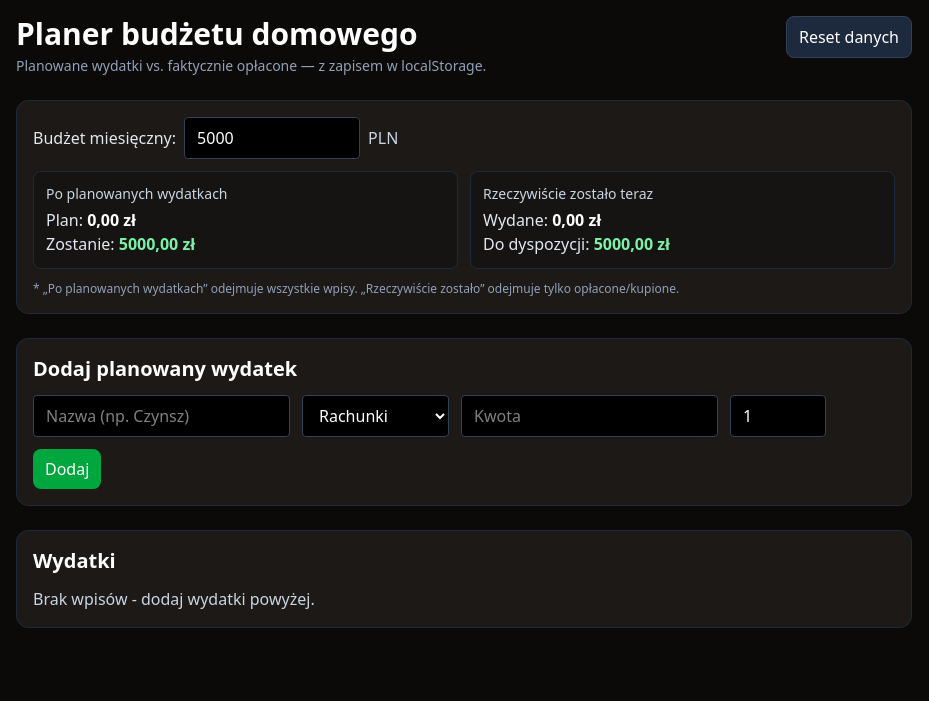
App integration › adds expense and updates planned remaining
The image size is (929, 701).
Replace the text in the number field labelled "Budżet miesięczny: PLN" with "1000" at (272, 138), box [184,117,360,159]
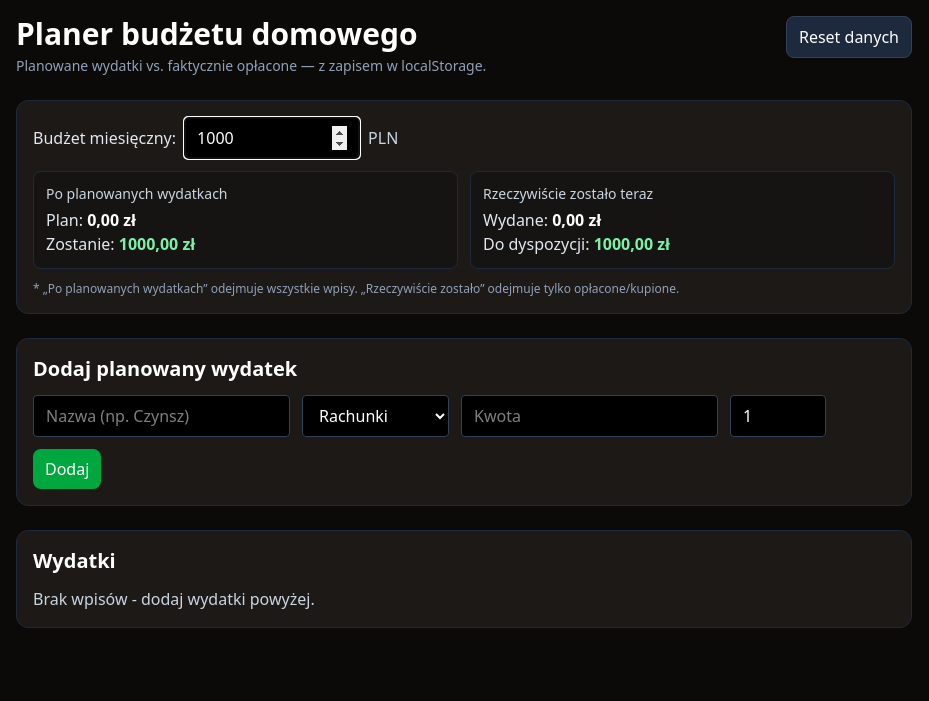
Type "Czynsz" into the field with placeholder "Nazwa (np. Czynsz)".
click(162, 416); type("Czynsz")  # box [33,395,290,437]
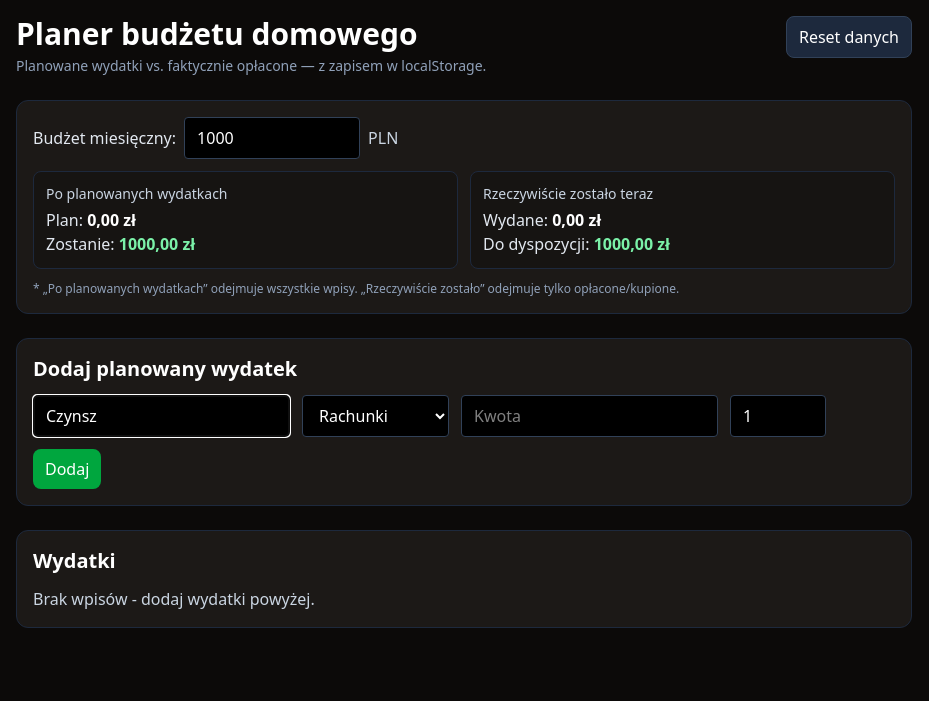
Type "200" into the number field with placeholder "Kwota".
click(590, 416); type("200")  # box [461,395,718,437]
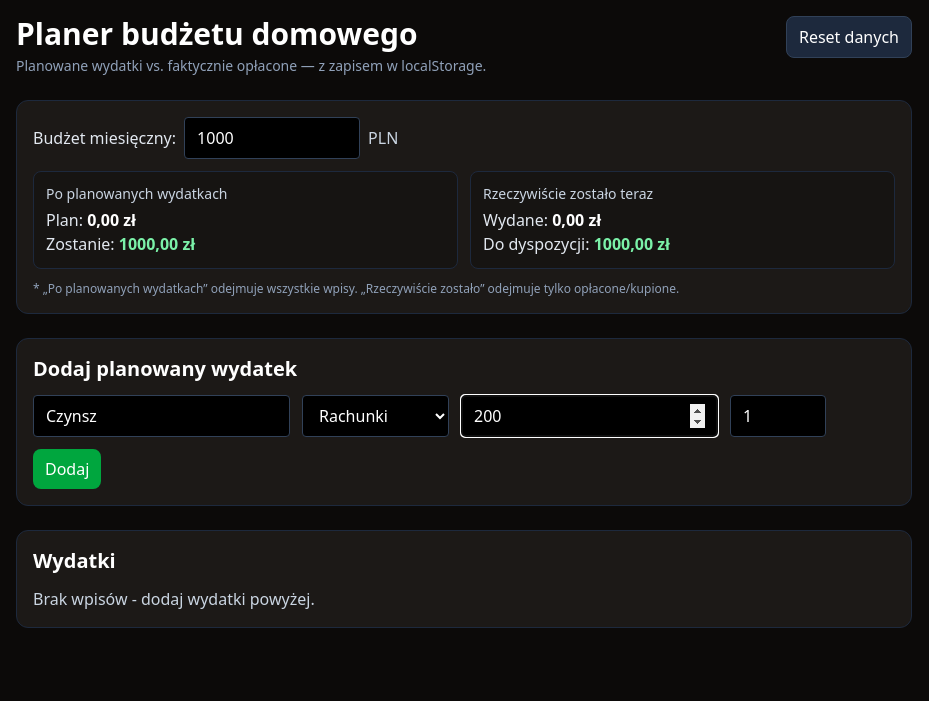
Click the button "Dodaj".
click(67, 469)  # box [33,449,101,489]
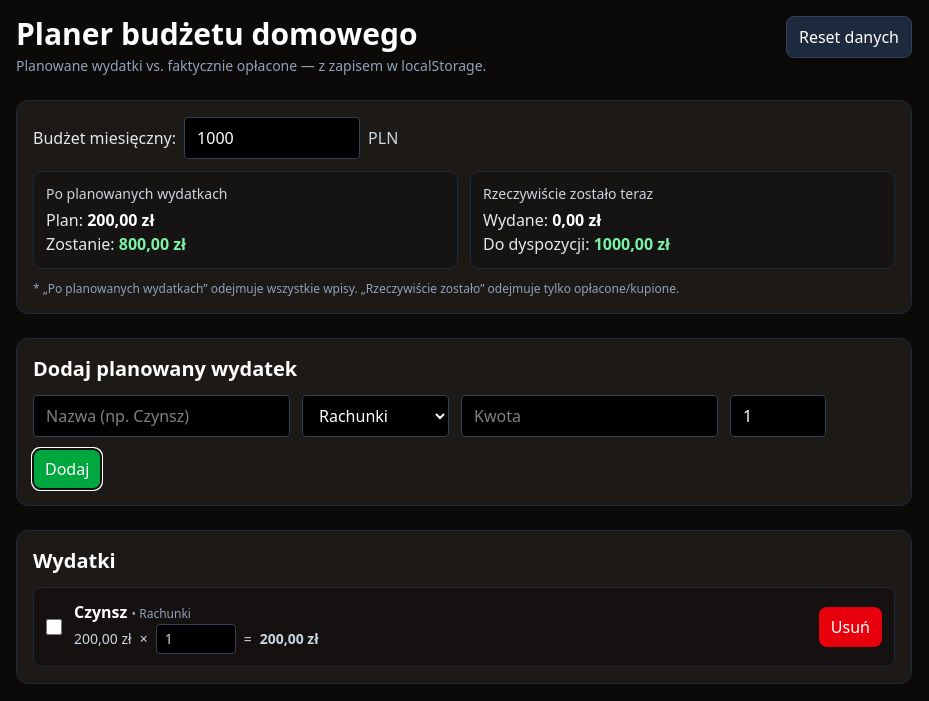
Expected: the text "Zostanie" is shown, [46,233,115,255]
Now the text "Czynsz" is shown, box [74,601,127,623]
